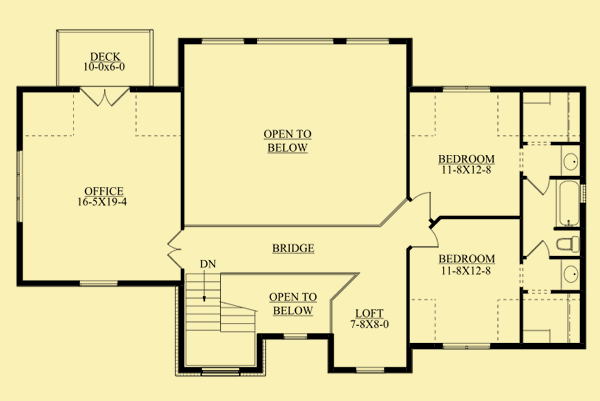door: (80, 86, 128, 107), (165, 228, 185, 267), (409, 226, 441, 249), (526, 173, 551, 196), (412, 189, 432, 217), (527, 238, 551, 260)
large_sink: (554, 233, 579, 255)
small_sink: (558, 145, 583, 177), (557, 258, 580, 291)
stairs: (185, 270, 256, 365)
tub: (555, 180, 583, 226)
window: (15, 149, 26, 224), (255, 36, 332, 45), (442, 342, 493, 352), (200, 36, 246, 46), (345, 36, 389, 46), (441, 86, 492, 93), (348, 366, 386, 374), (75, 280, 117, 287), (279, 332, 306, 341)
